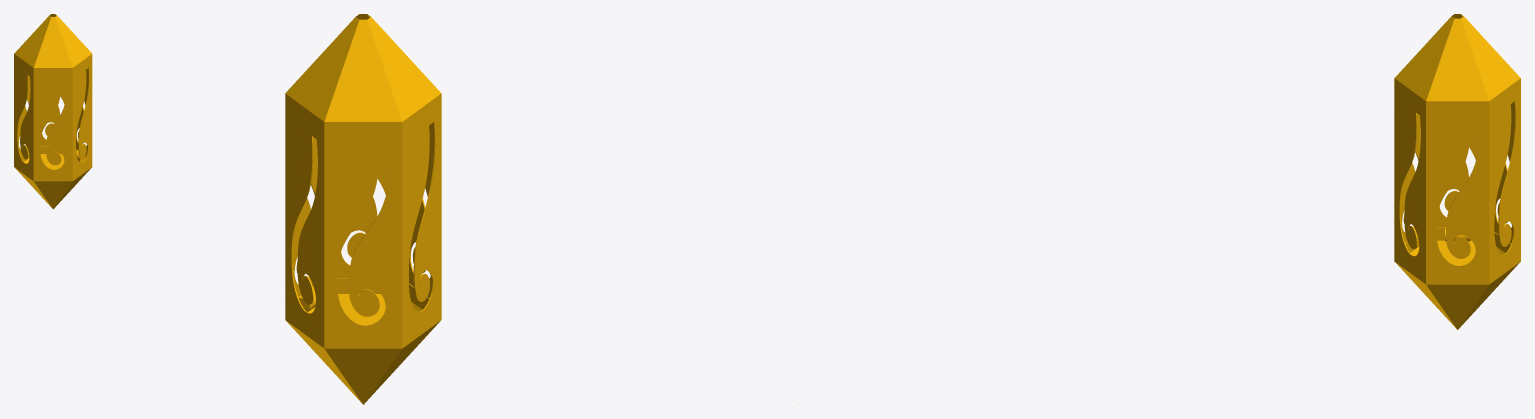
The model's file is GEMAS.glb.
3 renders of one model, left to right at view 1: azimuth 30°, elevation 25°; view 2: azimuth 150°, elevation 25°; view 3: azimuth 270°, elevation 25°, orthographic. The views are drawn at different scales.
Parts seen in each view (by area): view 1: 3DGeom-19; view 2: 3DGeom-19; view 3: 3DGeom-19.
Part boxes in pixels (box(x1,y1,x2,y2)): 3DGeom-19: box(14, 14, 92, 209); 3DGeom-19: box(285, 14, 441, 404); 3DGeom-19: box(1394, 14, 1520, 329).
Bounding box in the file's own units: 217 × 848 × 1427.
